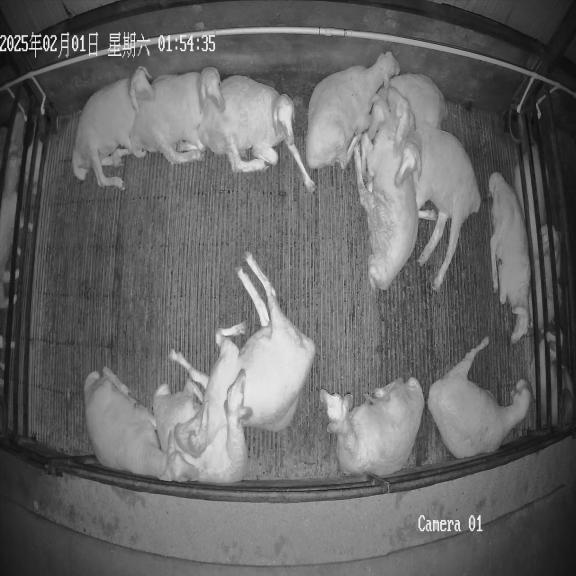lying: (171, 254, 315, 458), (396, 123, 481, 290), (198, 76, 314, 192), (84, 367, 198, 482), (354, 87, 418, 290), (427, 337, 532, 458), (305, 52, 400, 168), (153, 375, 252, 483), (320, 378, 425, 478), (72, 66, 153, 189), (131, 67, 225, 164), (488, 172, 531, 343), (367, 74, 447, 140)
